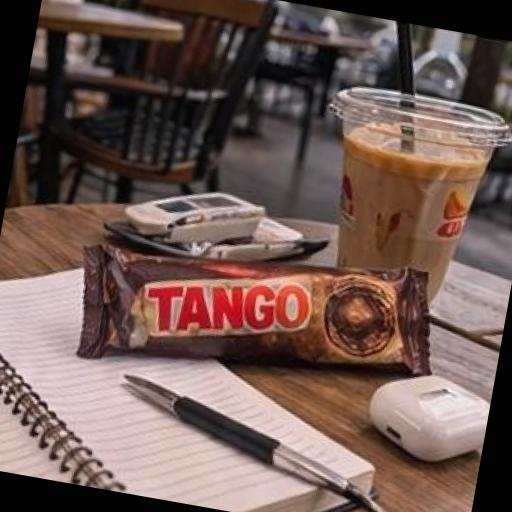tango: (24, 158, 468, 436)
